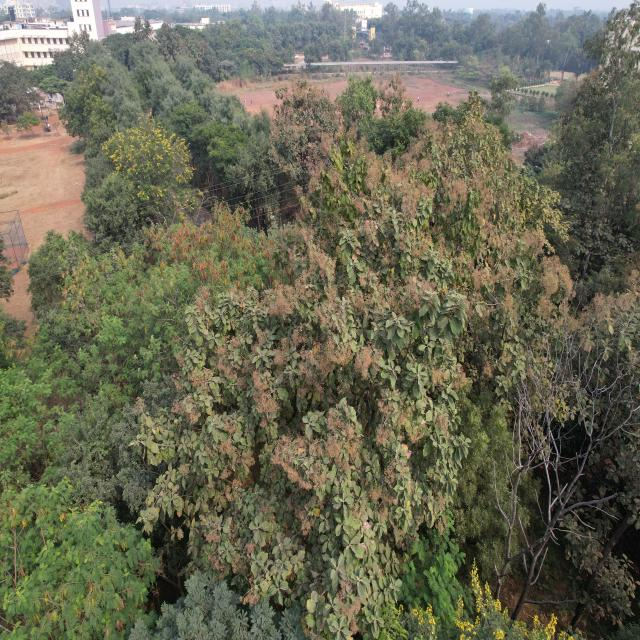Devakanchan tree: (234, 148, 275, 219), (91, 177, 130, 250)
Neem Tree: (465, 424, 523, 563)
